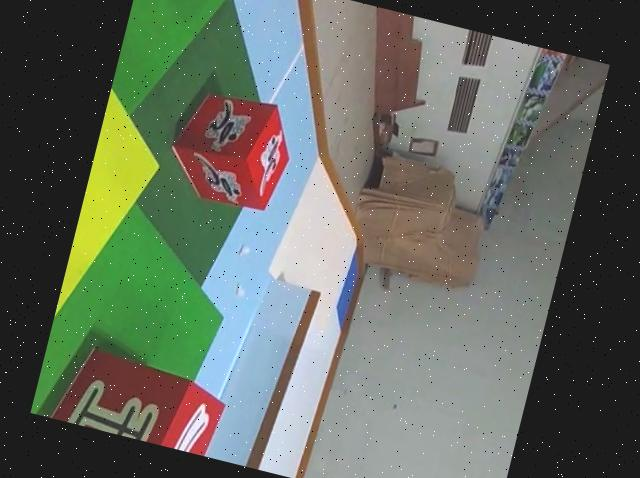R1: (158, 77, 308, 219)
R2 Fake: (31, 330, 241, 461)
